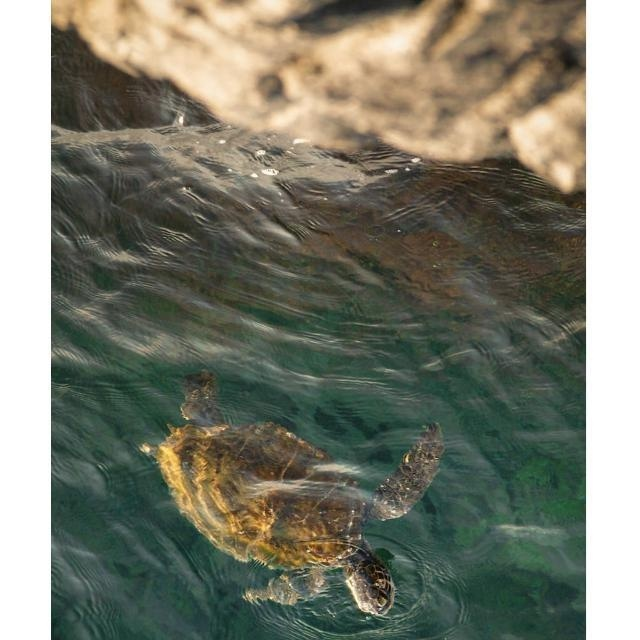turtle: (132, 368, 445, 616)
